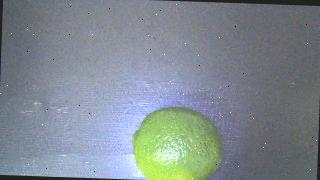EXPORTACION: (131, 105, 225, 180)
